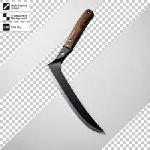Golok: (40, 0, 120, 140)
